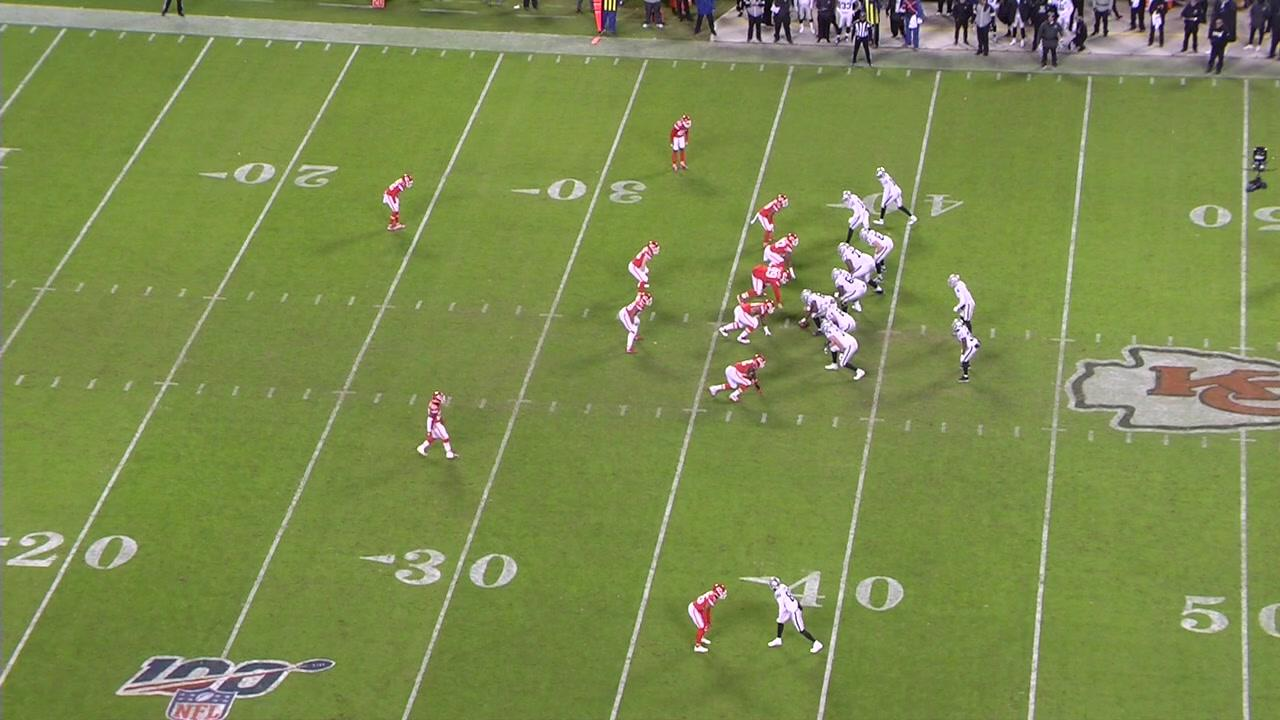defense: (414, 383, 462, 465), (686, 583, 730, 653), (709, 354, 768, 403), (714, 300, 776, 345), (736, 265, 791, 309), (616, 291, 651, 360), (383, 169, 418, 235), (749, 194, 791, 248), (627, 240, 664, 298), (760, 234, 799, 281), (667, 114, 697, 173)
oline: (822, 321, 865, 387), (836, 240, 884, 295), (796, 290, 840, 330), (829, 270, 866, 315), (820, 302, 857, 338)
qb: (949, 274, 976, 326)
ref: (846, 14, 875, 70)
skill: (765, 579, 825, 658), (874, 167, 917, 224), (863, 223, 895, 282), (952, 317, 980, 383), (845, 191, 872, 239)
